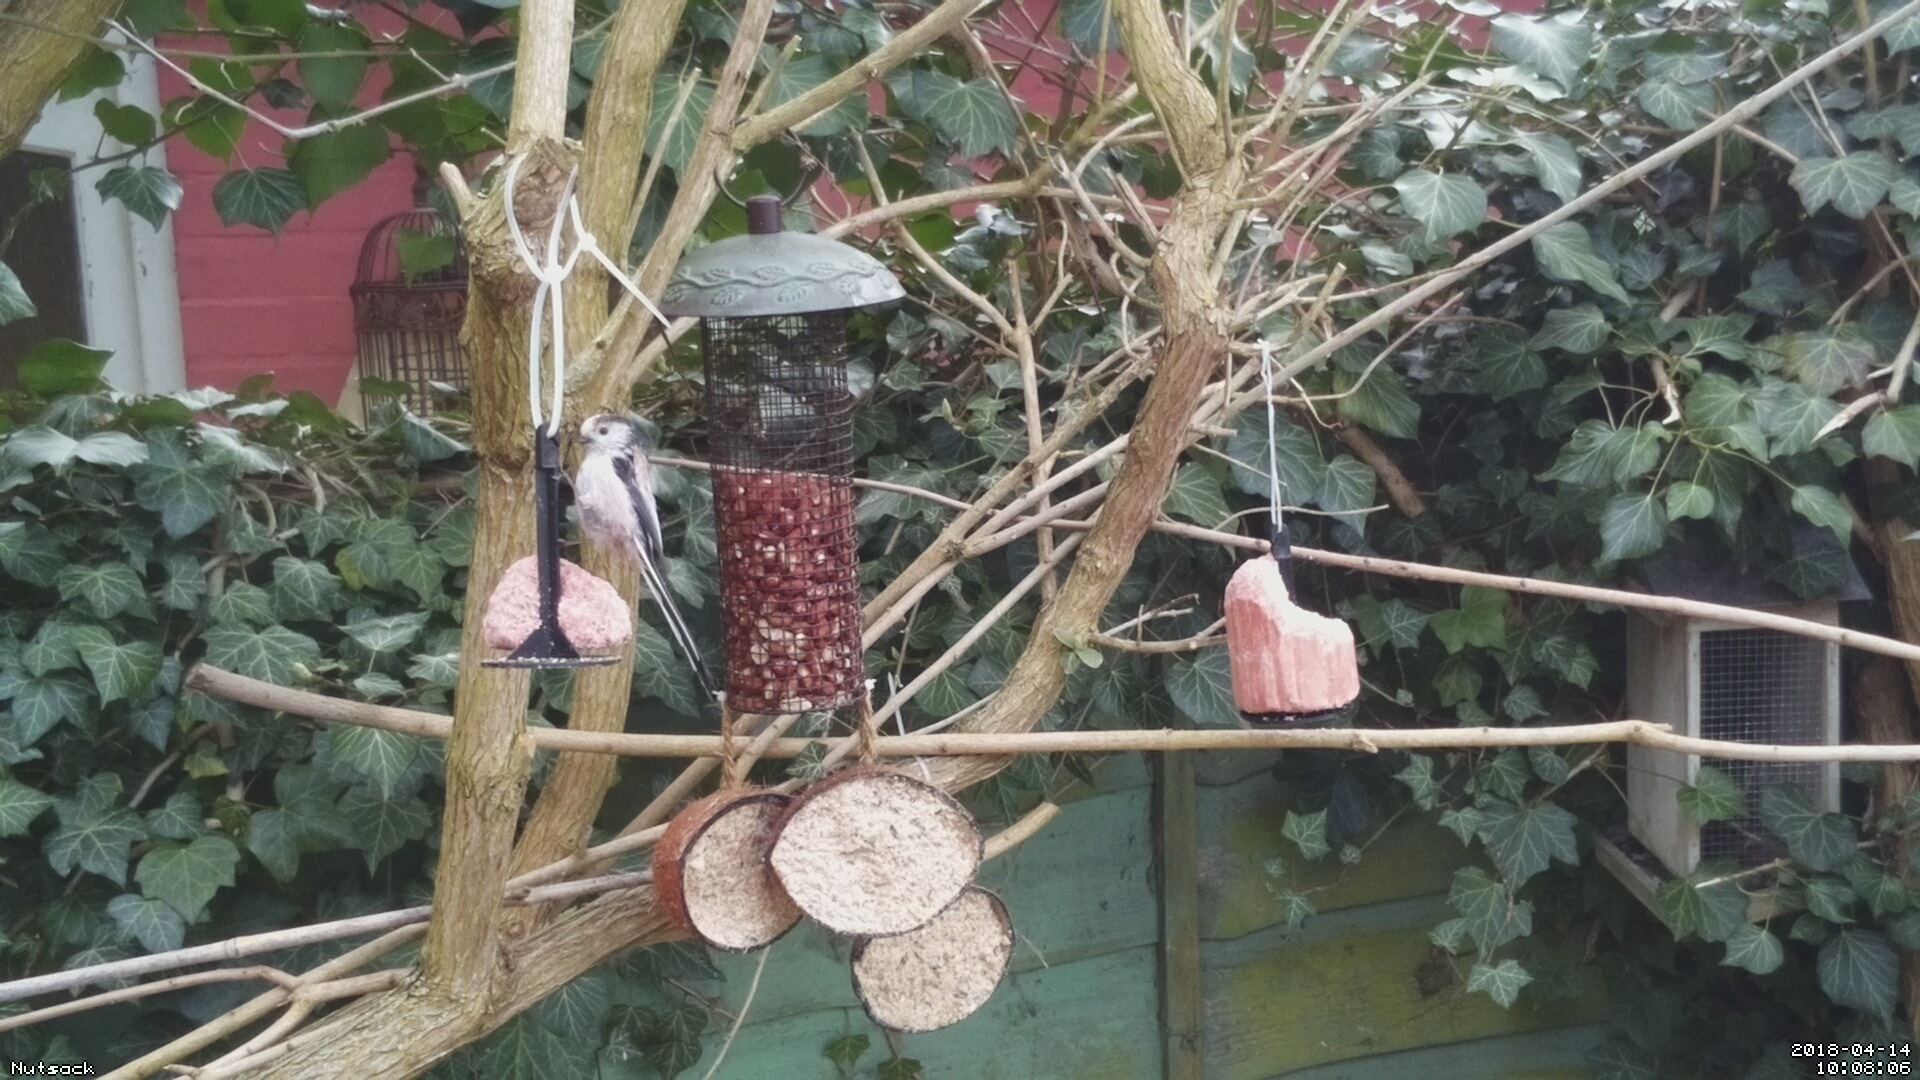long tailed tit: (562, 414, 713, 694)
